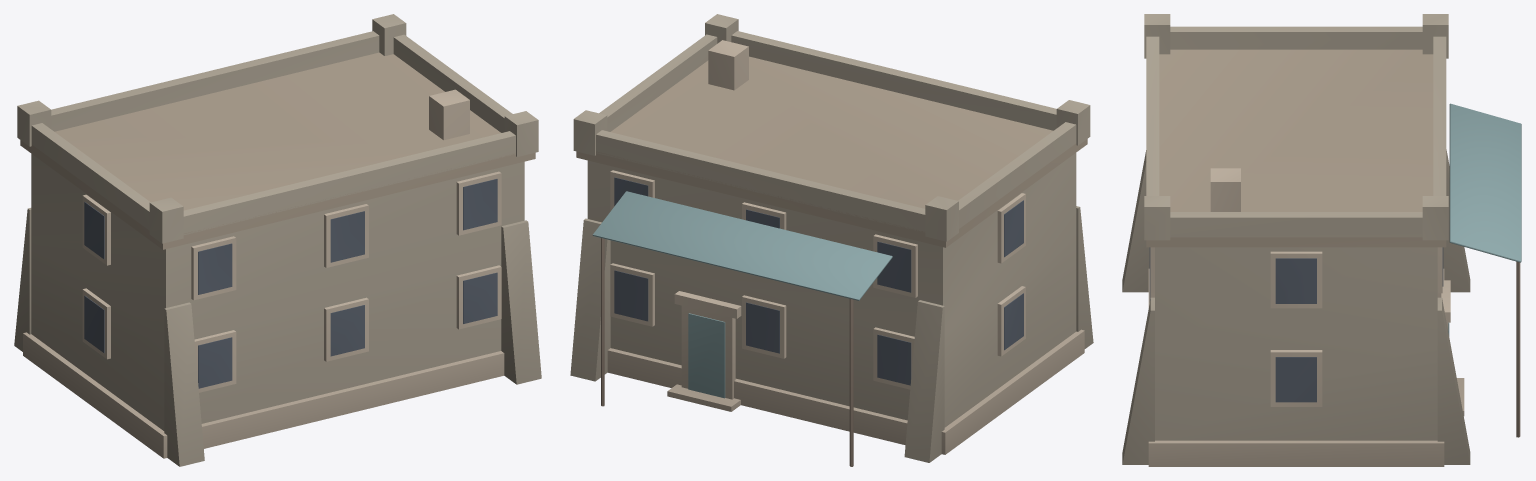
The model's file is hall_sun.gltf.
3 renders of one model, left to right at view 1: azimuth 30°, elevation 25°; view 2: azimuth 150°, elevation 25°; view 3: azimuth 270°, elevation 25°, orthographic. The views are drawn at different scales.
Visible parts, largest first — view 1: Body; view 2: Body; view 3: Body.
Boxes of the visible parts, bbox=[...] form: Body: bbox=[14, 14, 541, 466]; Body: bbox=[570, 14, 1093, 466]; Body: bbox=[1122, 14, 1521, 466].
Bounding box in the file's own units: 10.5 × 6.8 × 9.18.
